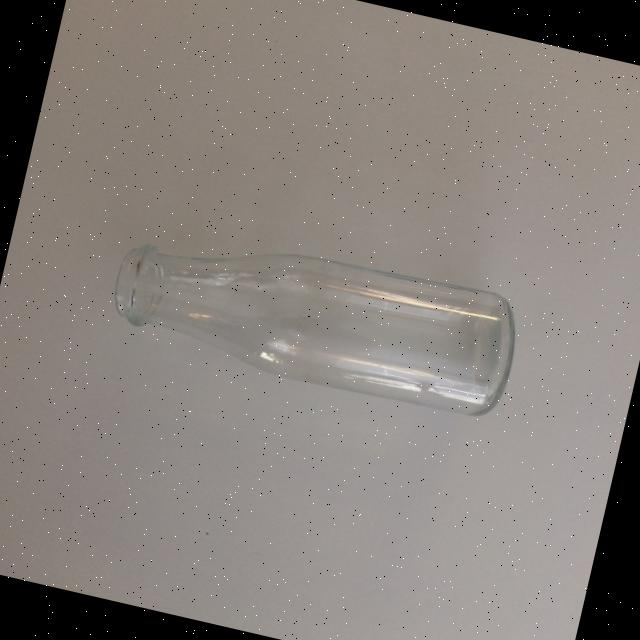glass: (104, 210, 520, 425)
